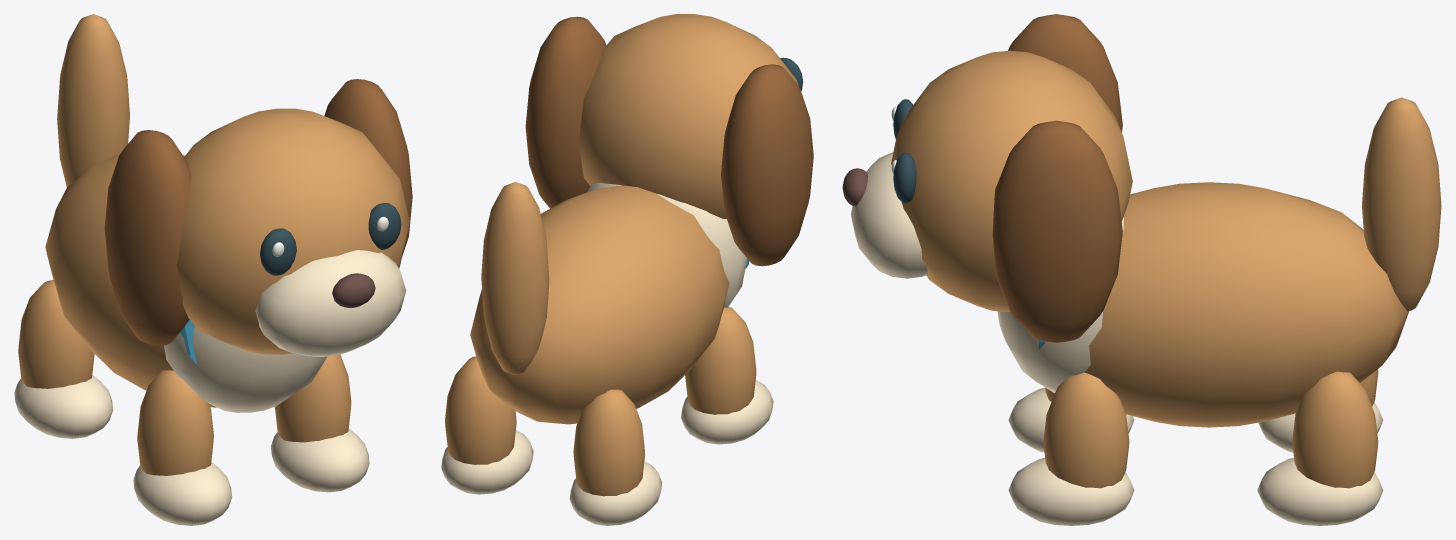
The model's file is pet-dog.glb.
3 views of the same model, side by side, from view 1: azimuth 30°, elevation 25°; view 2: azimuth 150°, elevation 25°; view 3: azimuth 270°, elevation 25° (orthographic). The views are drawn at different scales.
Parts seen in each view (by area): view 1: PetBody, PetLeg_FL, PetLeg_RL, PetTail, PetLeg_FR; view 2: PetBody, PetTail, PetLeg_RL, PetLeg_RR, PetLeg_FL; view 3: PetBody, PetLeg_RR, PetLeg_FR, PetTail, PetLeg_FL, PetLeg_RL.
Part boxes in pixels (x1=…): PetBody: x1=45, y1=79, x2=412, y2=412; PetLeg_FL: x1=133, y1=370, x2=232, y2=525; PetLeg_RL: x1=14, y1=280, x2=113, y2=438; PetTail: x1=57, y1=14, x2=129, y2=187; PetLeg_FR: x1=270, y1=354, x2=369, y2=492; PetBody: x1=470, y1=14, x2=813, y2=424; PetTail: x1=481, y1=182, x2=549, y2=374; PetLeg_RL: x1=569, y1=389, x2=662, y2=525; PetLeg_RR: x1=441, y1=356, x2=533, y2=494; PetLeg_FL: x1=681, y1=306, x2=773, y2=444; PetBody: x1=842, y1=14, x2=1408, y2=427; PetLeg_RR: x1=1257, y1=371, x2=1383, y2=525; PetLeg_FR: x1=1008, y1=372, x2=1134, y2=525; PetTail: x1=1362, y1=97, x2=1441, y2=311; PetLeg_FL: x1=1008, y1=387, x2=1134, y2=452; PetLeg_RL: x1=1258, y1=369, x2=1383, y2=452.
Bounding box in the file's own units: 1.04 × 1.4 × 1.8.
